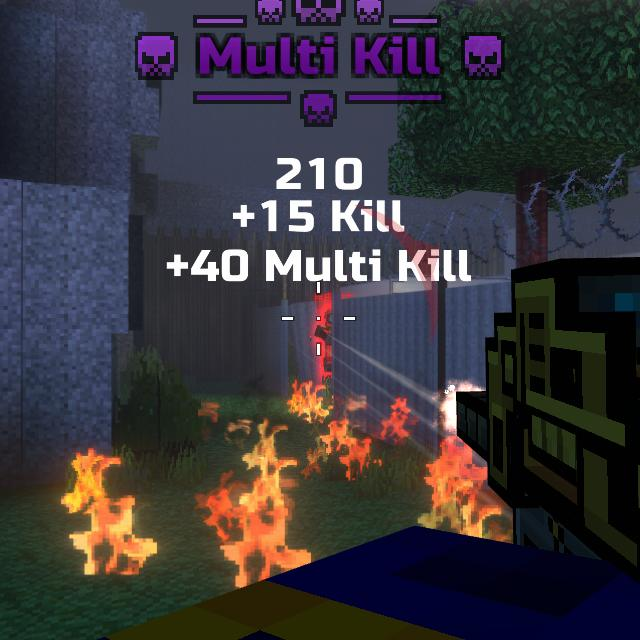Enemy: (314, 310, 332, 375)
